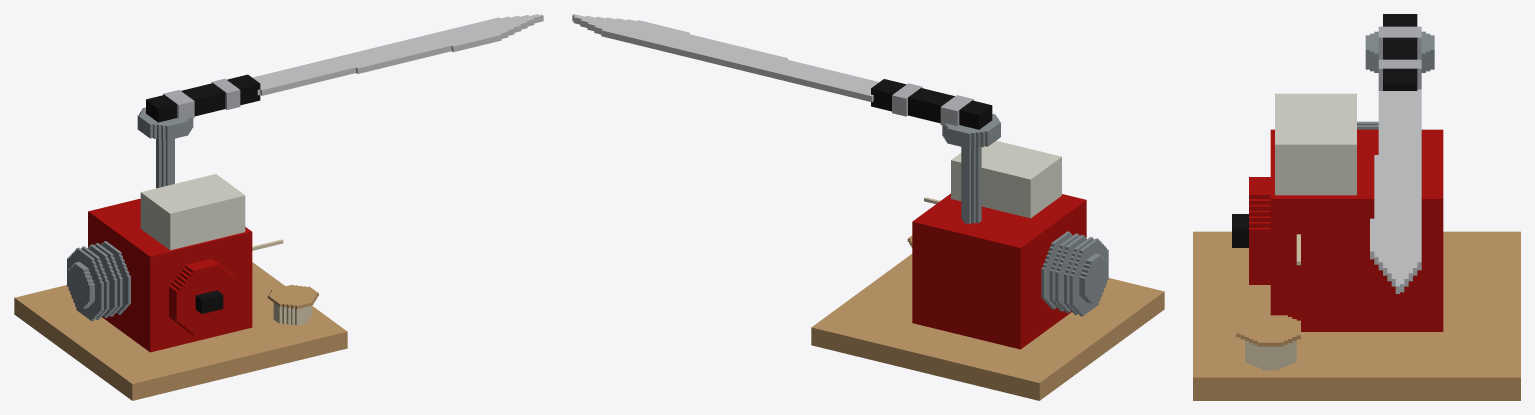
The model's file is blade_trap.glb.
3 views of the same model, side by side, from view 1: azimuth 30°, elevation 25°; view 2: azimuth 150°, elevation 25°; view 3: azimuth 270°, elevation 25° (orthographic). The views are drawn at different scales.
Visible parts, largest first — view 1: blade_trap:compound; view 2: blade_trap:compound; view 3: blade_trap:compound.
Part boxes in pixels (left/top/right/bottom): blade_trap:compound: left=14, top=14, right=543, bottom=400; blade_trap:compound: left=572, top=14, right=1164, bottom=400; blade_trap:compound: left=1193, top=14, right=1520, bottom=400.
Bounding box in the file's own units: 0.72 × 0.312 × 0.304.
